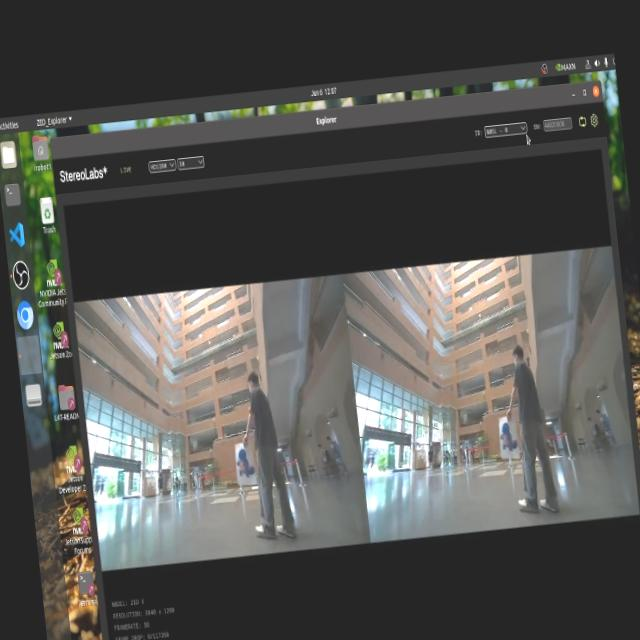blue: (228, 444, 258, 491), (496, 416, 523, 468)
